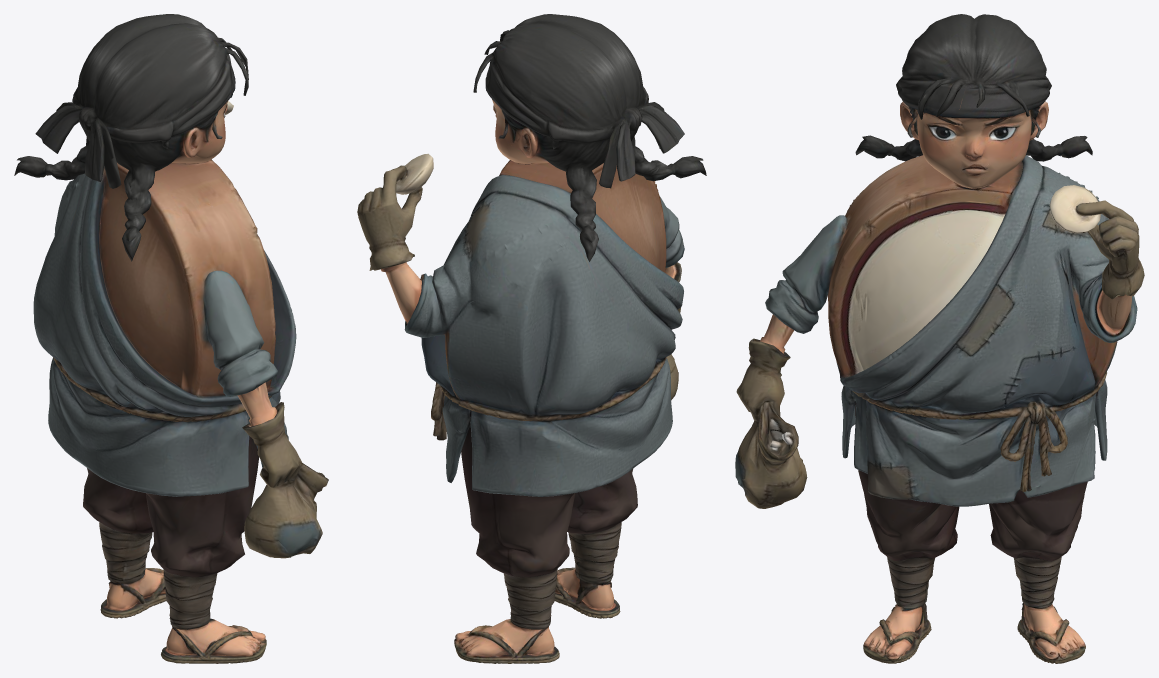
Rendered from p_b1p_aji.glb.
3 views of the same model, side by side, from view 1: azimuth 30°, elevation 25°; view 2: azimuth 150°, elevation 25°; view 3: azimuth 270°, elevation 25° (orthographic).
Visible parts, largest first — view 1: tripo_node_77087898-eb25-468f-9421-9a5f2c973726; view 2: tripo_node_77087898-eb25-468f-9421-9a5f2c973726; view 3: tripo_node_77087898-eb25-468f-9421-9a5f2c973726.
Boxes of the visible parts, x1=… form: tripo_node_77087898-eb25-468f-9421-9a5f2c973726: x1=14, y1=14, x2=328, y2=663; tripo_node_77087898-eb25-468f-9421-9a5f2c973726: x1=357, y1=14, x2=706, y2=663; tripo_node_77087898-eb25-468f-9421-9a5f2c973726: x1=735, y1=14, x2=1144, y2=663.
Size of the model in its own units: 0.3732 by 0.98 by 0.5947.
Materials: 1 (1 with a texture image).
